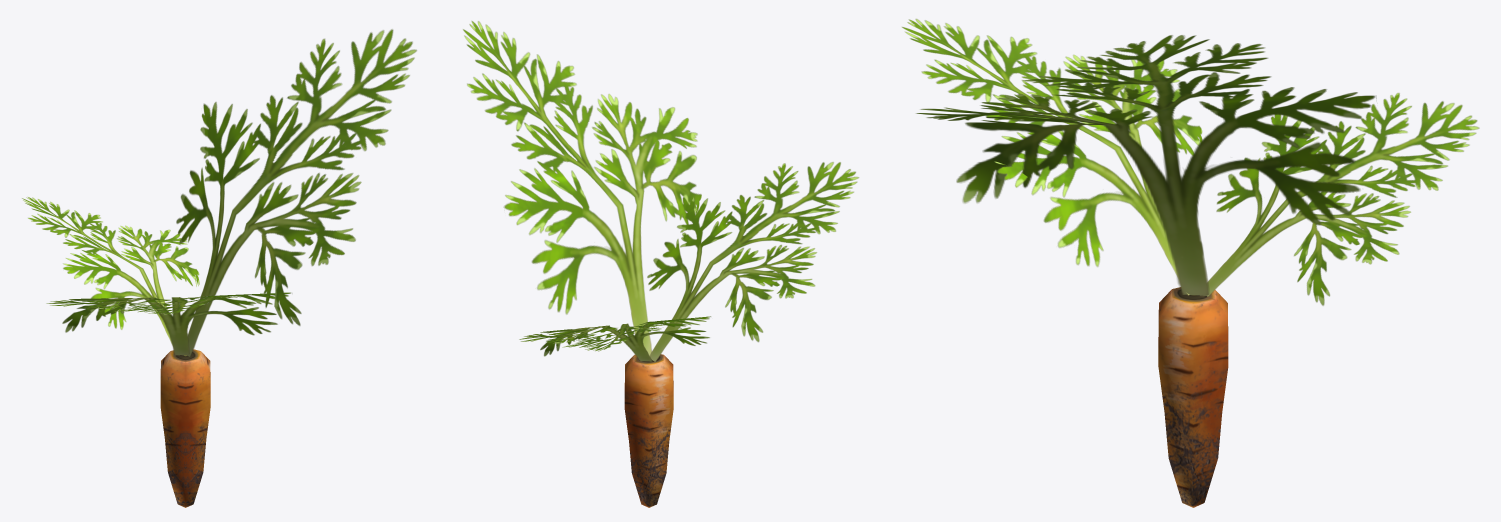
File: plant_carrot_S2.gltf
3 renders of one model, left to right at view 1: azimuth 30°, elevation 25°; view 2: azimuth 150°, elevation 25°; view 3: azimuth 270°, elevation 25°, orthographic. The views are drawn at different scales.
Parts seen in each view (by area): view 1: plant_carrot_S2; view 2: plant_carrot_S2; view 3: plant_carrot_S2.
Part boxes in pixels (x1,y1,x2,y2): plant_carrot_S2: [22, 29, 416, 507]; plant_carrot_S2: [463, 21, 858, 507]; plant_carrot_S2: [902, 19, 1479, 507].
Size of the model in its own units: 0.4474 by 0.484 by 0.4243.
Materials: 1 (1 with a texture image).
